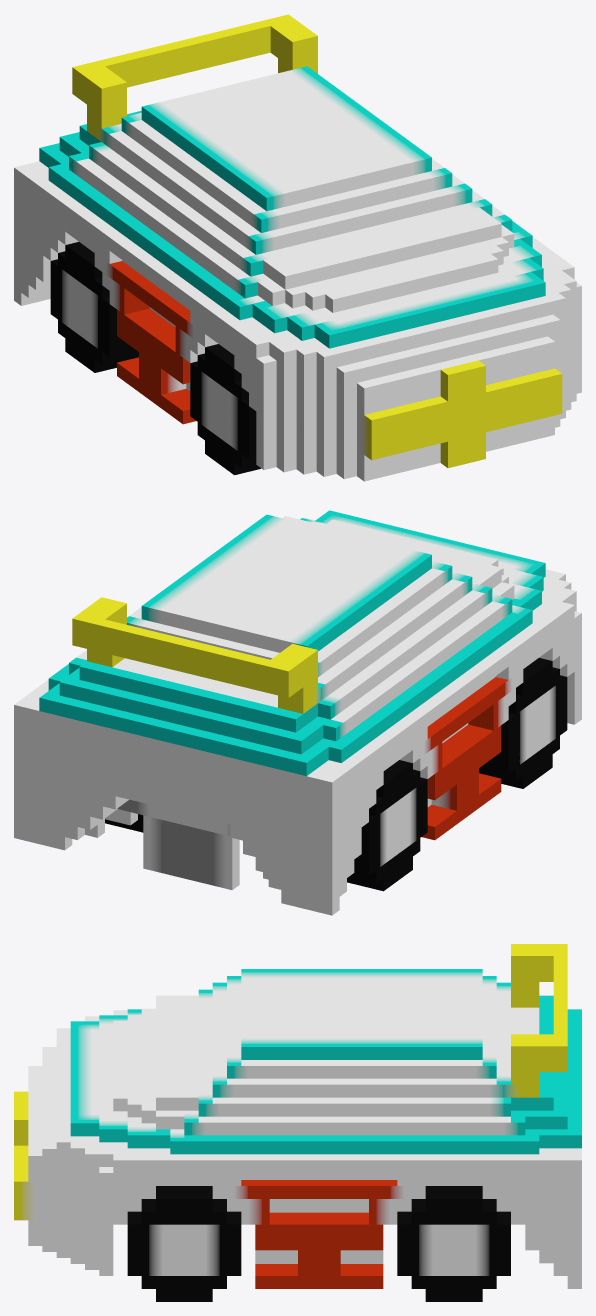
The model's file is Car_44.fbx.
3 renders of one model, top to bottom at view 1: azimuth 30°, elevation 25°; view 2: azimuth 150°, elevation 25°; view 3: azimuth 270°, elevation 25°, orthographic. The views are drawn at different scales.
Parts seen in each view (by area): view 1: Car_44; view 2: Car_44; view 3: Car_44.
Boxes of the visible parts, bbox=[...] form: Car_44: bbox=[14, 14, 581, 481]; Car_44: bbox=[14, 510, 581, 915]; Car_44: bbox=[14, 944, 581, 1301].
Size of the model in its own units: 25 by 18 by 40.
1 material, 1 textured.
